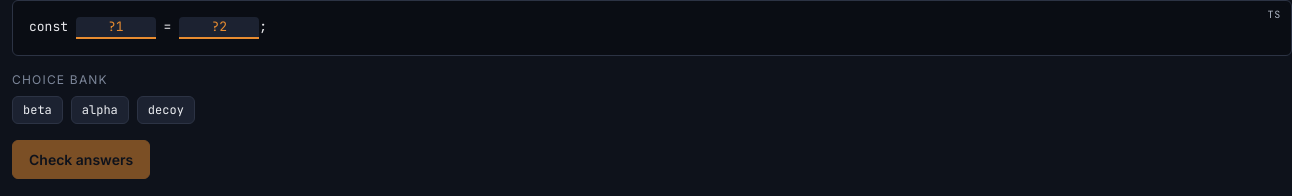
BlanksLesson › clicking a filled blank frees it and its choice
Click the button with class "lesson__choice" showing "alpha" at (100, 110), box x1=71 y1=96 x2=129 y2=124
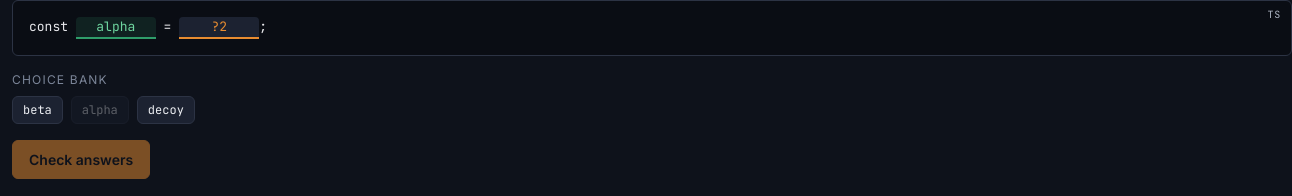
Click the button with class "lesson__blank" next to "const" at (116, 28), box x1=76 y1=17 x2=156 y2=39
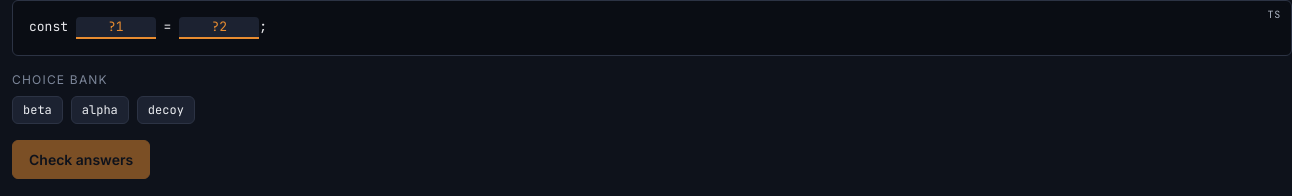
Check: the button with class "lesson__blank" reads "?1", box x1=76 y1=17 x2=156 y2=39
